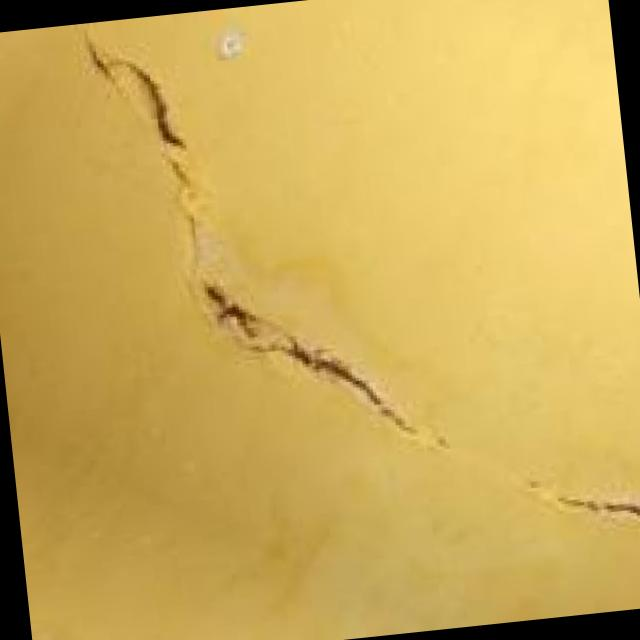crack: (21, 6, 478, 520)
